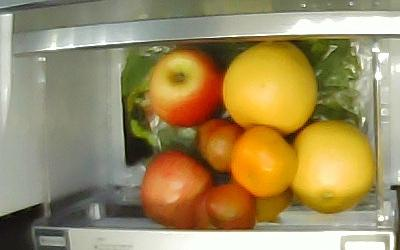apple: (149, 49, 225, 127), (141, 150, 212, 229)
grapefruit: (221, 41, 319, 136), (290, 120, 375, 214)
persimmon: (231, 126, 298, 197), (229, 174, 293, 220)
prune: (198, 119, 245, 172), (206, 183, 255, 230), (195, 185, 223, 230)
